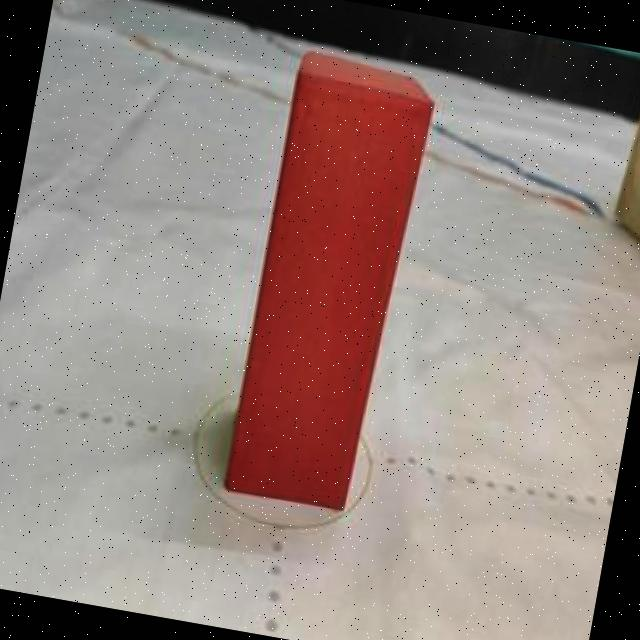redbox: (222, 44, 437, 510)
